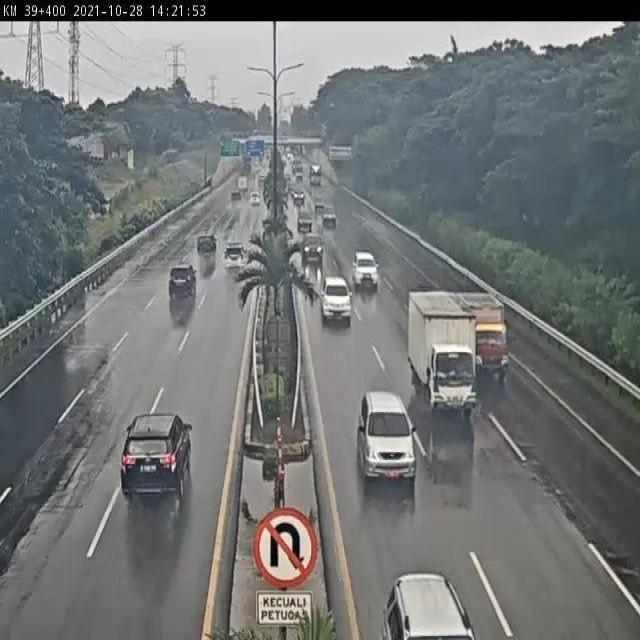Car: (381, 567, 478, 640), (118, 411, 192, 506), (321, 274, 352, 326), (168, 264, 198, 305), (350, 251, 379, 287), (222, 241, 251, 276), (304, 232, 326, 265), (297, 207, 316, 236), (247, 188, 263, 210), (323, 207, 337, 230), (293, 188, 307, 206)
Truck: (406, 292, 477, 418), (460, 295, 512, 380), (308, 163, 322, 188)
Van: (355, 388, 419, 494)
